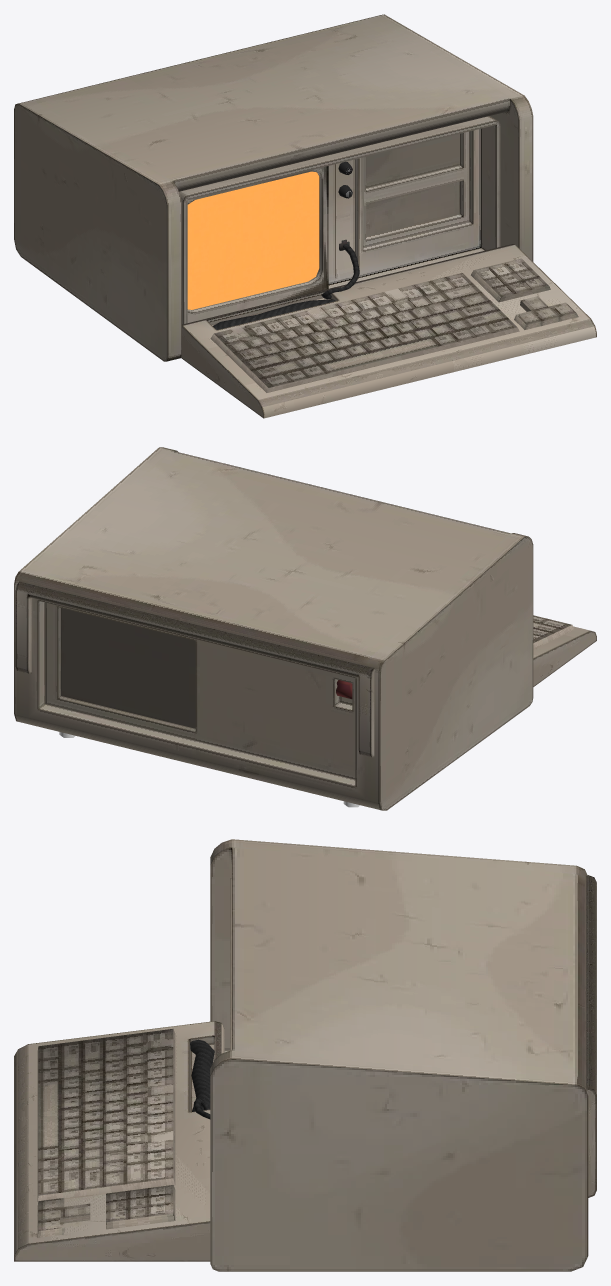
File: terminal-real.glb
3 renders of one model, top to bottom at view 1: azimuth 30°, elevation 25°; view 2: azimuth 150°, elevation 25°; view 3: azimuth 270°, elevation 25°, orthographic. The views are drawn at different scales.
Visible parts, largest first — view 1: case, computer, keyboard, keyboardCase, tinyCable; view 2: case, handle, keyboardCase, keyboard; view 3: case, keyboard, keyboardCase, handle, tinyCable.
Part boxes in pixels (x1=…): case: x1=14, y1=14, x2=533, y2=361; computer: x1=179, y1=116, x2=500, y2=324; keyboard: x1=210, y1=258, x2=578, y2=392; keyboardCase: x1=181, y1=244, x2=596, y2=418; tinyCable: x1=213, y1=161, x2=359, y2=329; case: x1=14, y1=447, x2=533, y2=810; handle: x1=15, y1=581, x2=375, y2=757; keyboardCase: x1=533, y1=626, x2=596, y2=686; keyboard: x1=533, y1=615, x2=574, y2=649; case: x1=210, y1=839, x2=588, y2=1271; keyboard: x1=37, y1=1028, x2=175, y2=1237; keyboardCase: x1=14, y1=1021, x2=224, y2=1261; handle: x1=586, y1=875, x2=596, y2=1197; tinyCable: x1=190, y1=1039, x2=214, y2=1119.
Bounding box in the file's own units: 1.8 × 0.853 × 2.02.
Materials: 8 (7 with a texture image).
